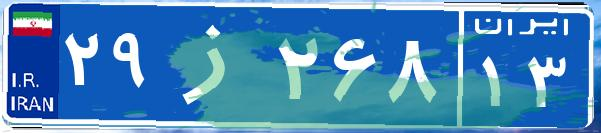1: (475, 38, 525, 113)
2: (273, 28, 330, 110), (57, 26, 110, 107)
3: (525, 38, 570, 115)
6: (330, 28, 385, 110)
8: (385, 28, 445, 110)
9: (110, 28, 158, 105)
ز: (158, 15, 273, 115)
